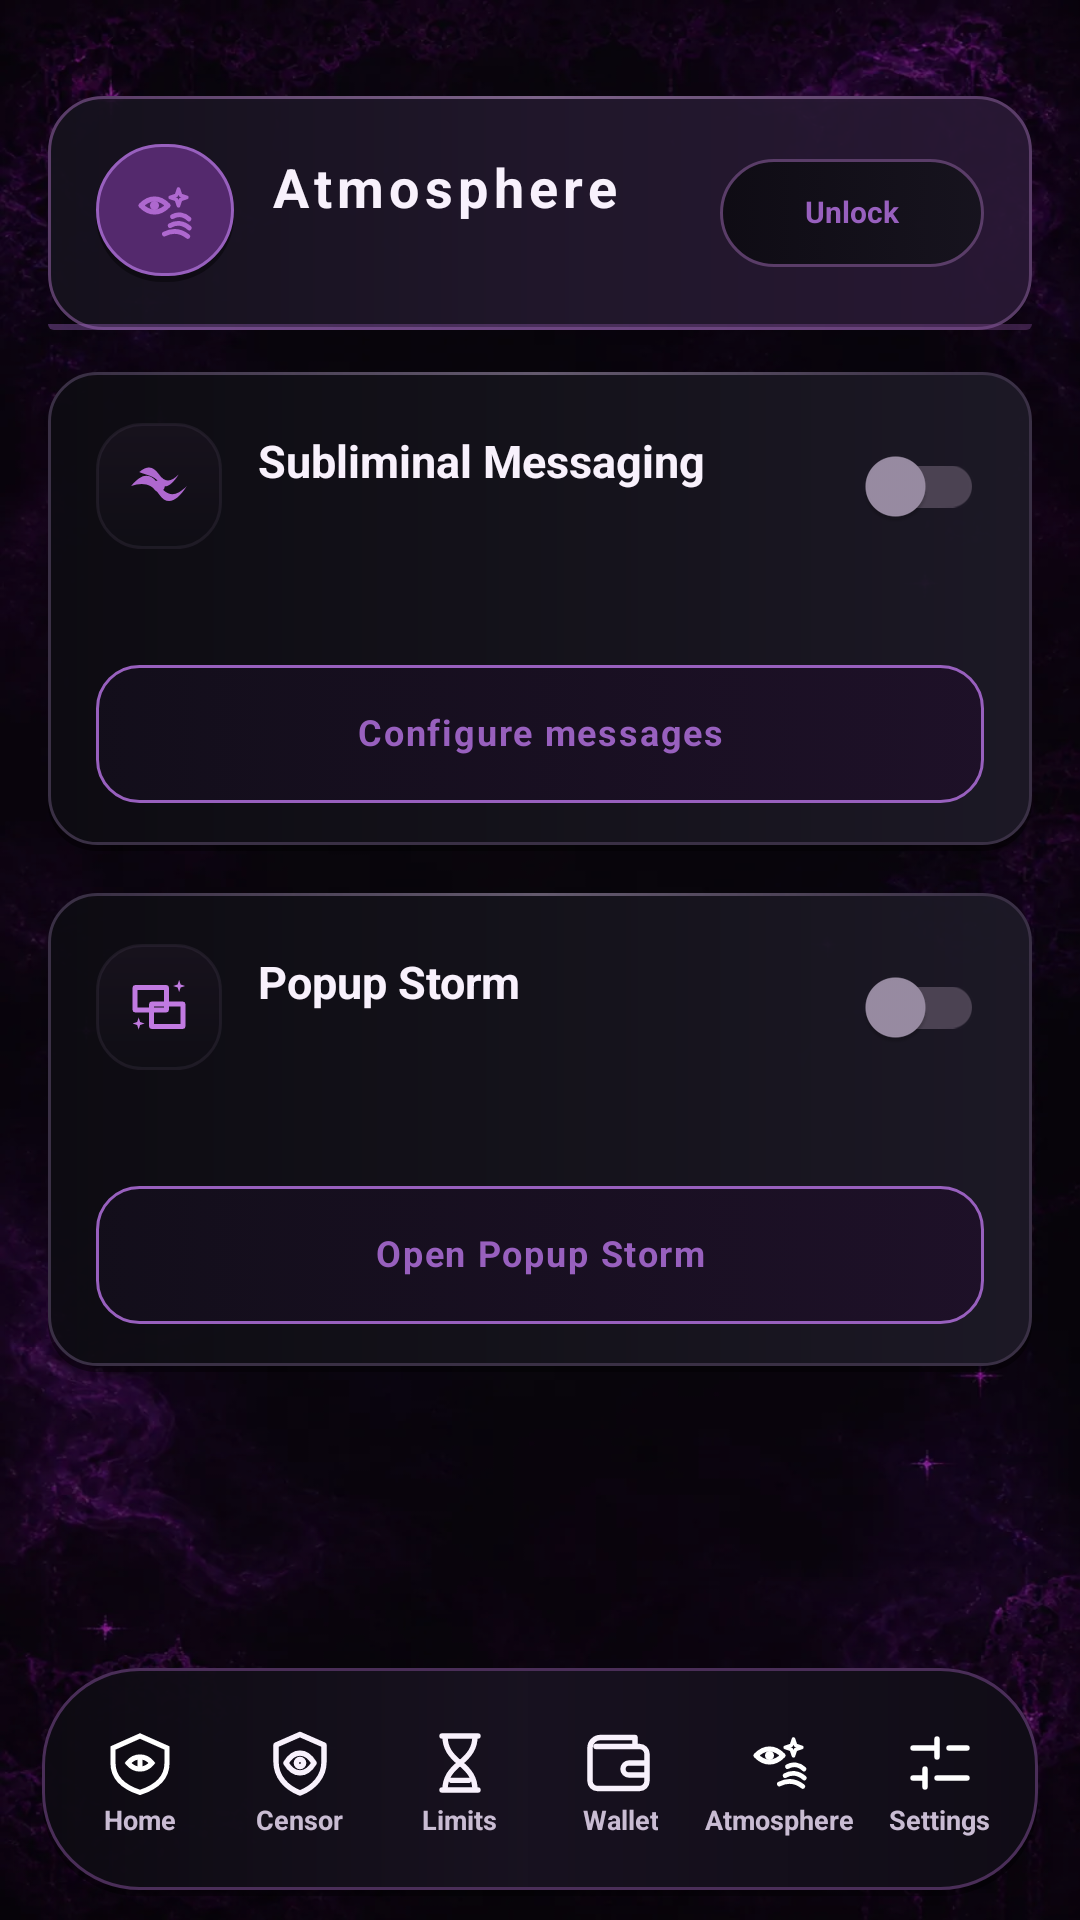

Icon click points for this 1080×1920 phone screenshot, format (x=x, y=y):
money: (x=618, y=1763)
